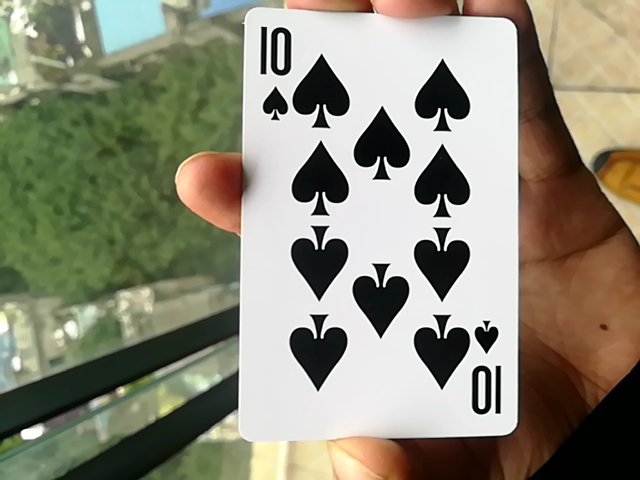ht 10: (232, 0, 515, 453)
